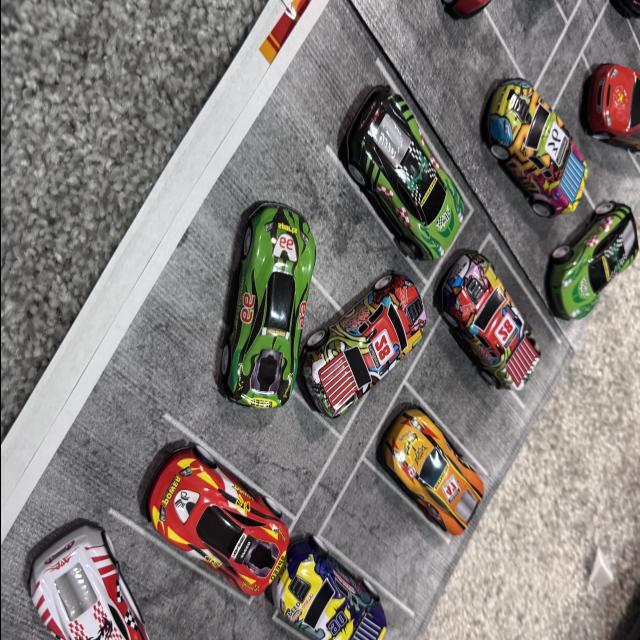car: (415, 194, 551, 410), (364, 393, 501, 602), (454, 27, 592, 232), (326, 79, 466, 271), (154, 428, 290, 604), (18, 468, 150, 640), (220, 209, 306, 437), (308, 286, 430, 418), (522, 198, 640, 320), (268, 550, 410, 640), (581, 39, 640, 180)
